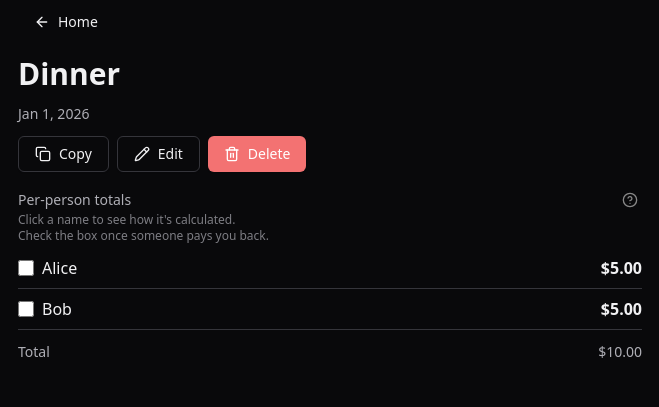
Test: TransactionView paid toggle › reverts when api.setPersonPaid rejects
The width and height of the screenshot is (659, 407).
Step 1. Click the checkbox named "Mark Alice paid" → coordinates (26, 268), box [18,260,34,276]
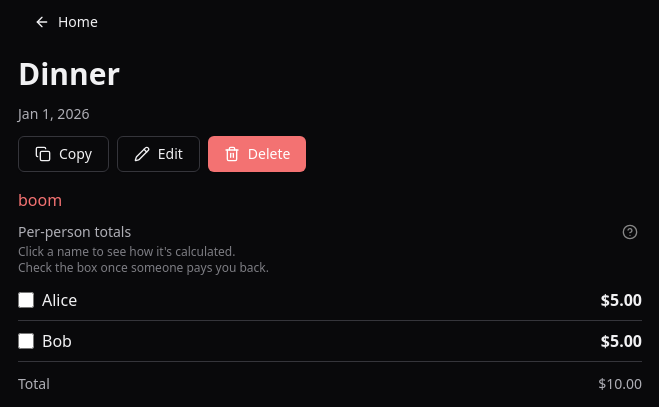
Expected: the checkbox named "Mark Alice paid" is not checked, [18,292,34,308]
Now the text "boom" is shown, box [18,189,62,211]
